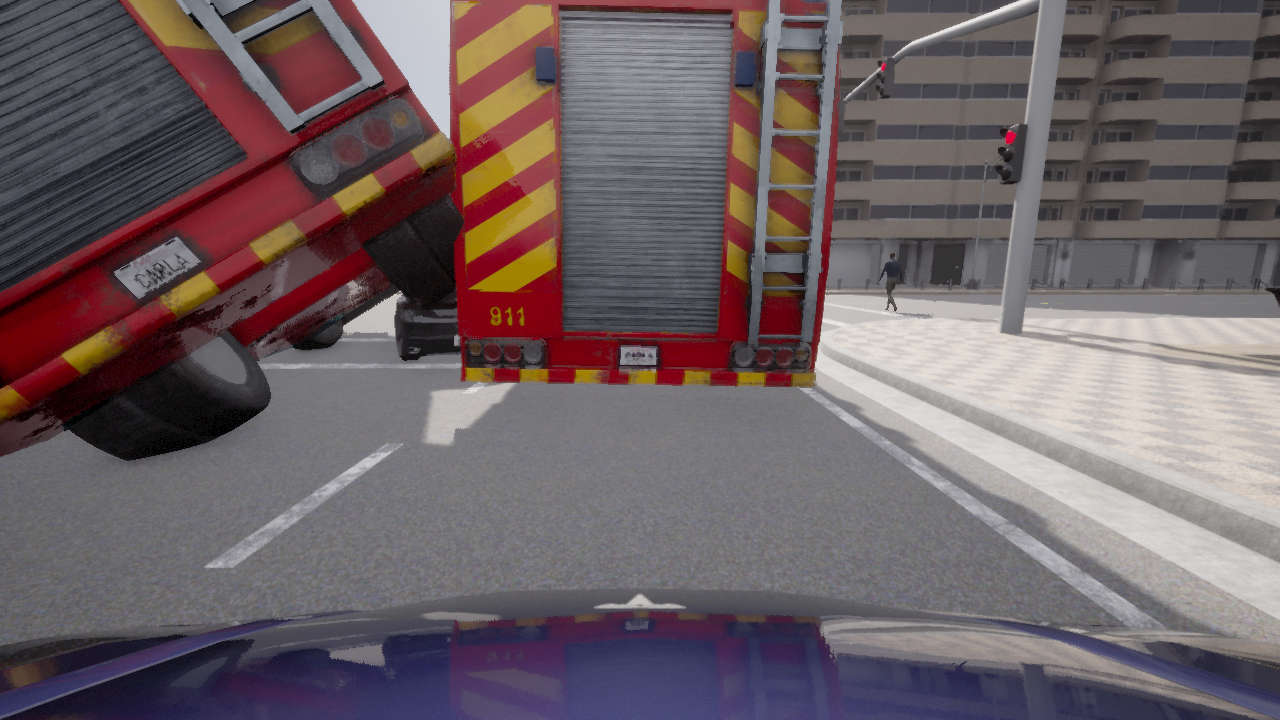cyclist: (0, 588, 1279, 719), (449, 0, 842, 386), (395, 288, 461, 360)
pedestrian: (877, 251, 903, 311)
